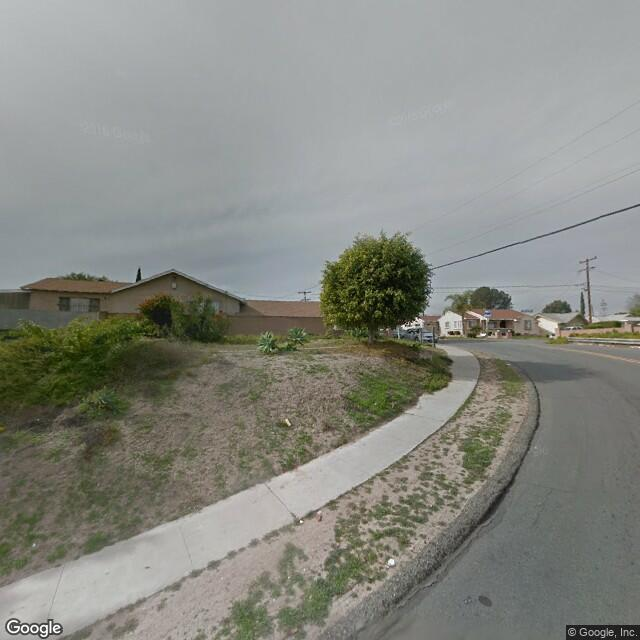litter: (388, 556, 399, 567), (275, 417, 295, 419)
